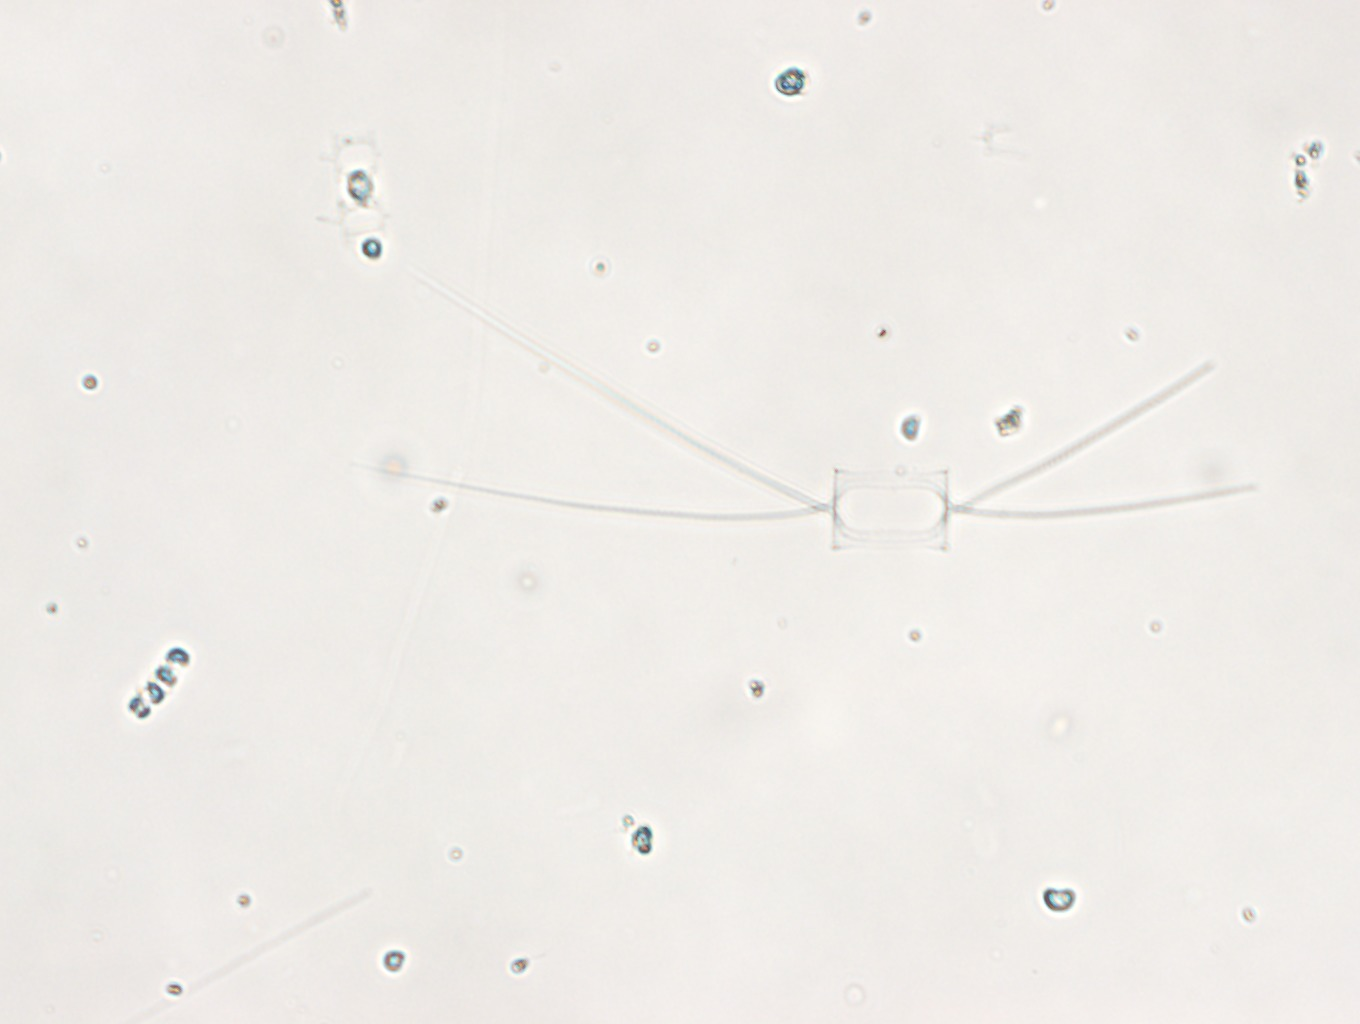chaetoceros: (371, 266, 1260, 561), (310, 131, 410, 281)
skeletonema: (126, 644, 194, 724)
